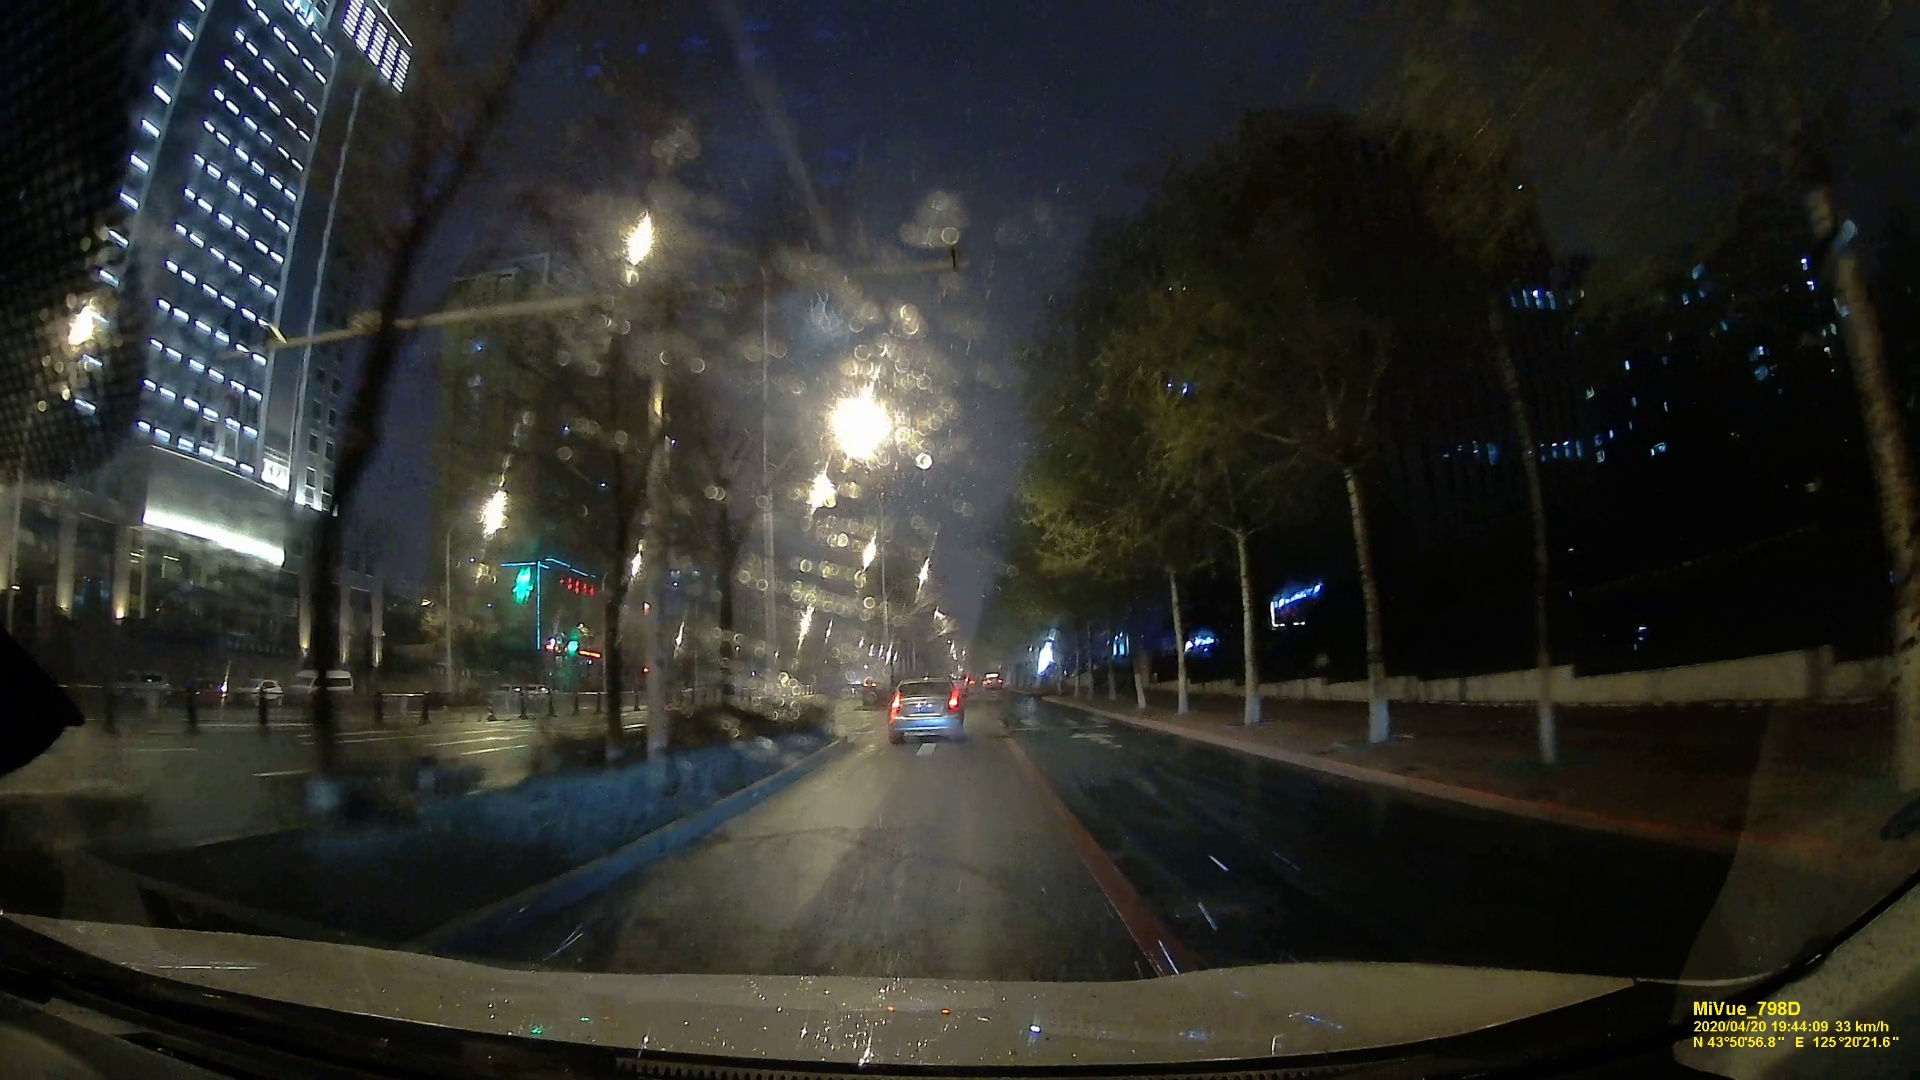vehicle: (886, 676, 961, 742)
